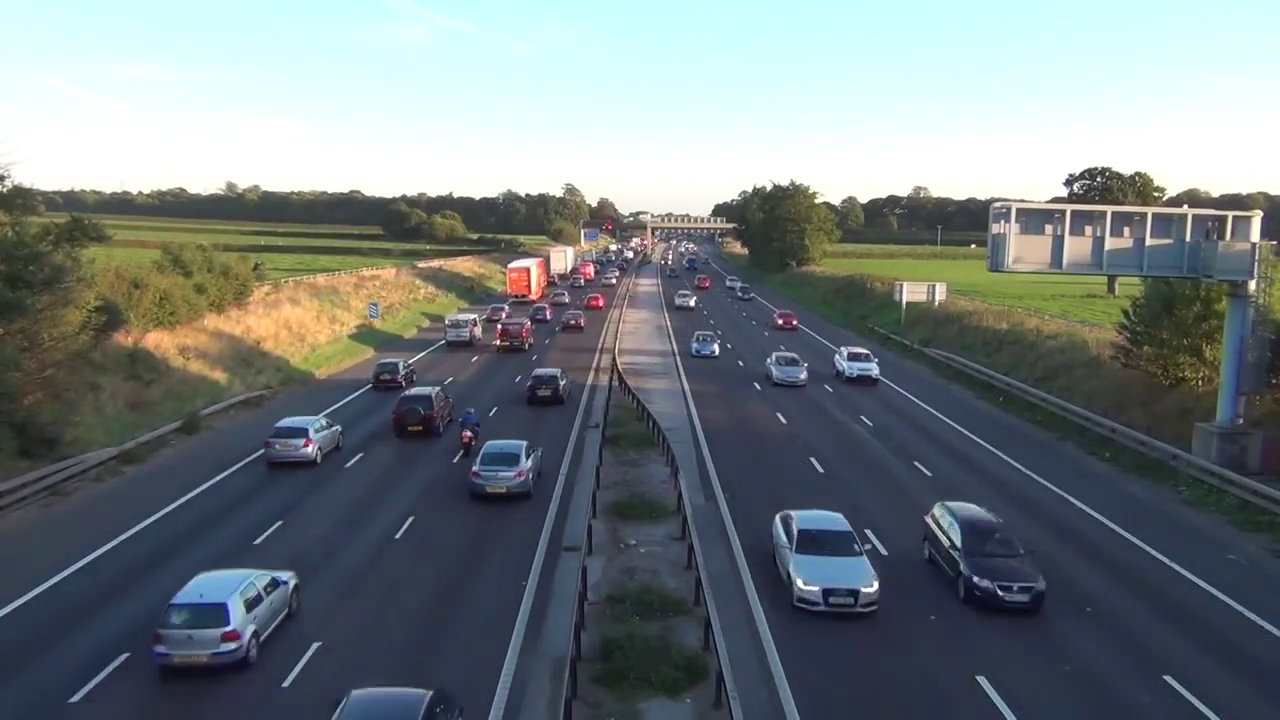bus: (900, 494, 1062, 619), (149, 550, 303, 662), (756, 507, 886, 628), (256, 412, 352, 471), (468, 438, 546, 502), (329, 683, 469, 717), (389, 387, 461, 446), (833, 344, 884, 386), (763, 351, 813, 391), (525, 363, 572, 403), (370, 357, 419, 389), (688, 329, 723, 361), (487, 302, 514, 326), (772, 310, 800, 333), (672, 290, 699, 310), (562, 309, 585, 332), (530, 303, 555, 324), (583, 292, 604, 312), (548, 289, 570, 306), (734, 283, 754, 299), (723, 274, 741, 290), (694, 273, 711, 289), (570, 275, 585, 290), (666, 266, 680, 279), (602, 274, 616, 286), (548, 274, 558, 287), (615, 260, 627, 270), (607, 269, 621, 276), (592, 263, 600, 273)
car: (505, 259, 547, 305), (548, 247, 576, 278)
jeep: (454, 405, 478, 452)
lorry: (445, 313, 485, 346), (495, 317, 533, 351), (574, 259, 581, 270)
minibus: (578, 262, 596, 282), (684, 253, 700, 272)
